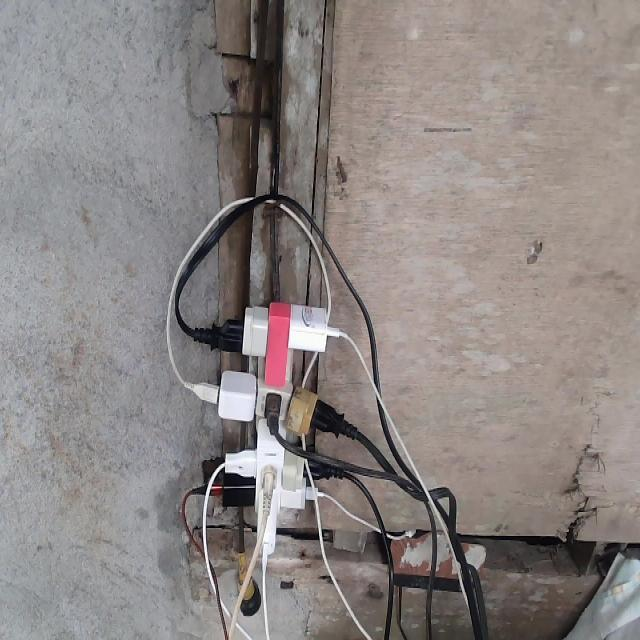-: (198, 296, 340, 559)
